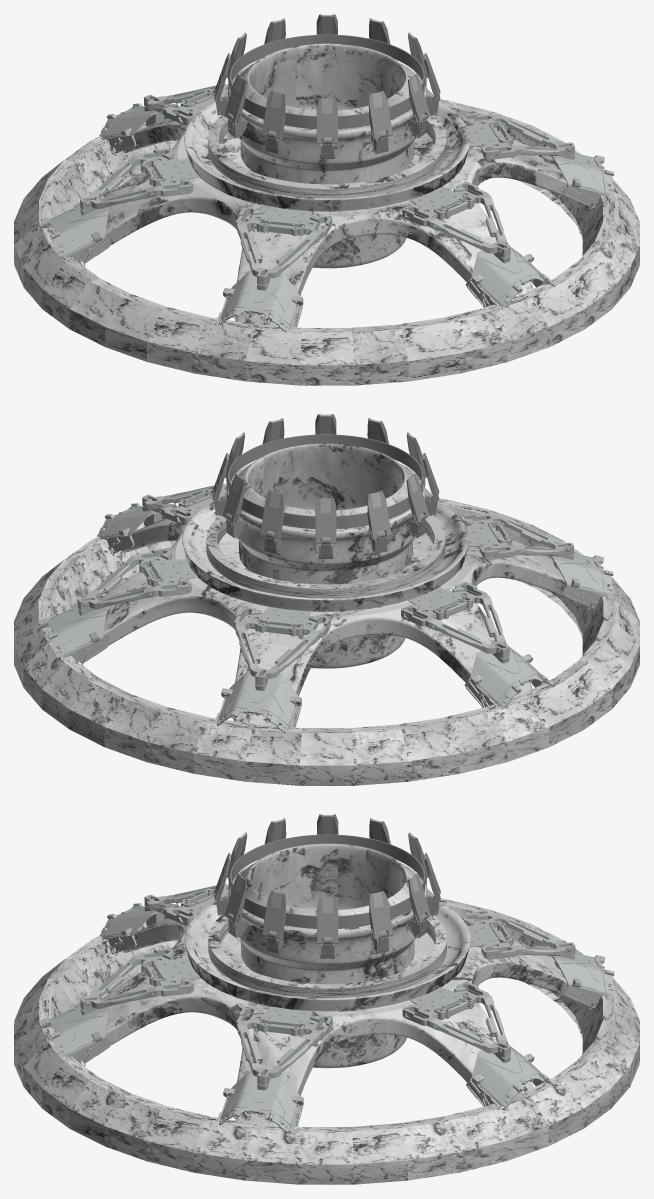
File: engine_compressed2.gltf
The picture shows the model from 3 angles, top to bottom: view 1: azimuth 30°, elevation 25°; view 2: azimuth 150°, elevation 25°; view 3: azimuth 270°, elevation 25°; orthographic projection.
Visible parts, largest first — view 1: HeavyStructure_Part_7_1.5728; view 2: HeavyStructure_Part_7_1.5728; view 3: HeavyStructure_Part_7_1.5728.
Part boxes in pixels (x1,y1,x2,y2): HeavyStructure_Part_7_1.5728: [14, 14, 639, 385]; HeavyStructure_Part_7_1.5728: [14, 414, 639, 785]; HeavyStructure_Part_7_1.5728: [14, 814, 639, 1184].
Bounding box in the file's own units: 14.66 × 5.09 × 14.68.
5 materials, 3 textured.
